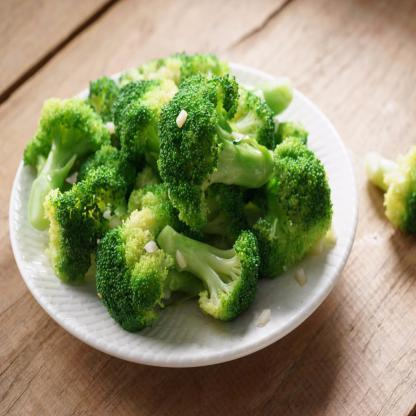broccoli: (22, 45, 333, 330)
